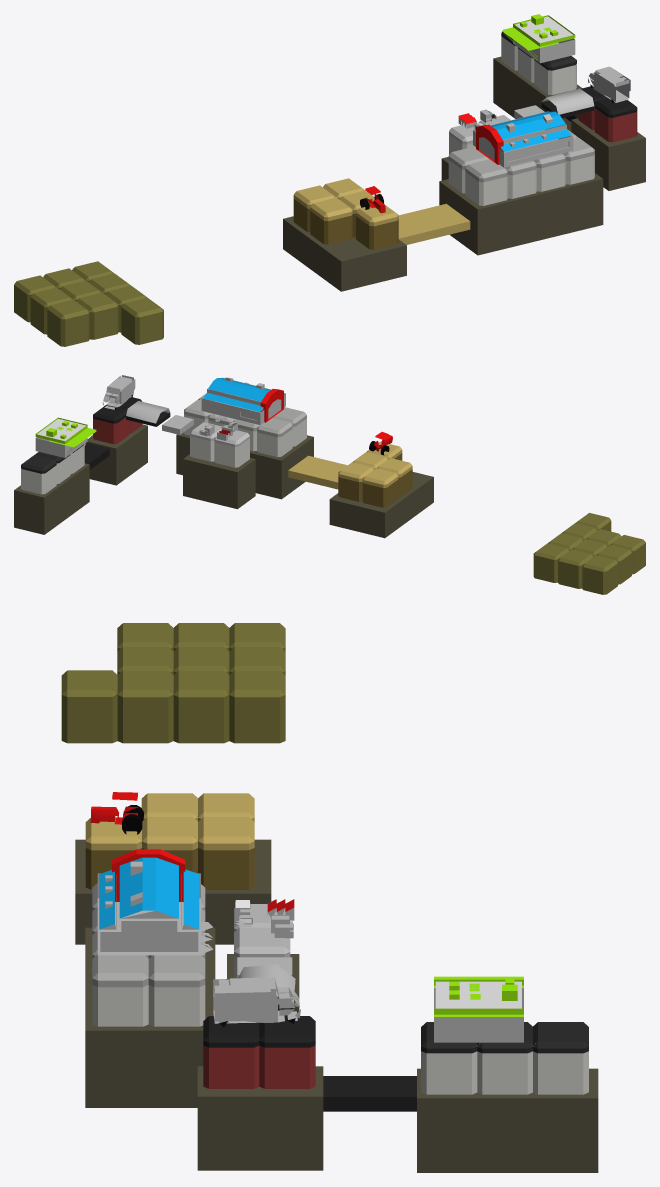
Rendered from tofu.gltf.
3 views of the same model, one above another, from view 1: azimuth 30°, elevation 25°; view 2: azimuth 150°, elevation 25°; view 3: azimuth 270°, elevation 25° (orthographic). The views are drawn at different scales.
Parts seen in each view (by area): view 1: tofu; view 2: tofu; view 3: tofu.
Boxes of the visible parts, box(x1,y1,x2,y2) form: tofu: box(14, 14, 645, 346); tofu: box(14, 375, 645, 594); tofu: box(61, 623, 598, 1172).
Bounding box in the file's own units: 20.94 × 3.53 × 9.48.
